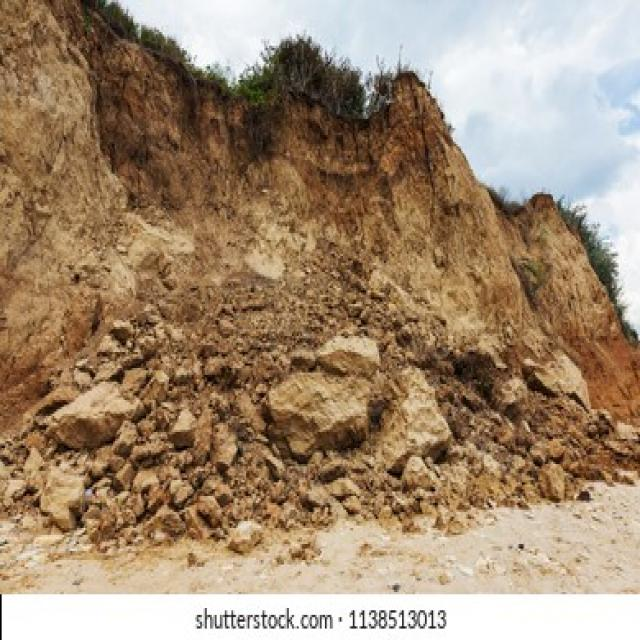landSliding: (61, 193, 640, 576)
